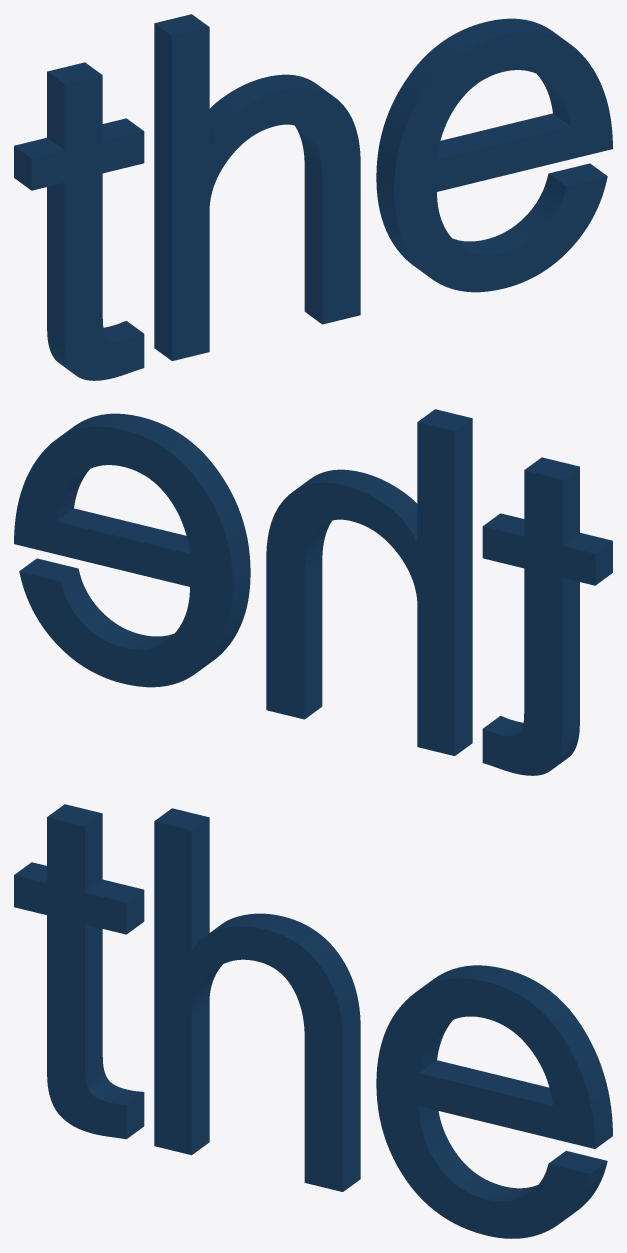
Rendered from the (2).gltf.
3 views of the same model, one above another, from view 1: azimuth 30°, elevation 25°; view 2: azimuth 150°, elevation 25°; view 3: azimuth 330°, elevation 25° (orthographic).
Size of the model in its own units: 1.9 by 1.04 by 0.1.
